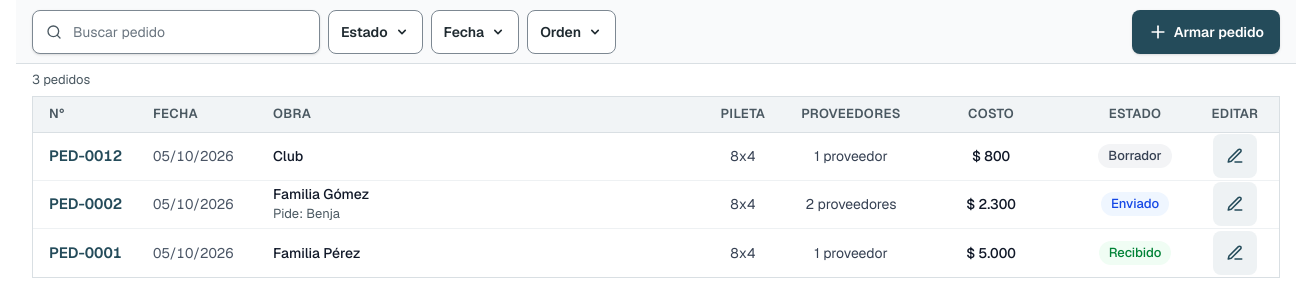
Test: Pedidos › busca por número y por obra
Check: the text "3 pedidos" is shown, box [32,70,90,90]
In the field named "Buscar pedidos": (176, 32) [32,10,320,54], type "ped-0012"
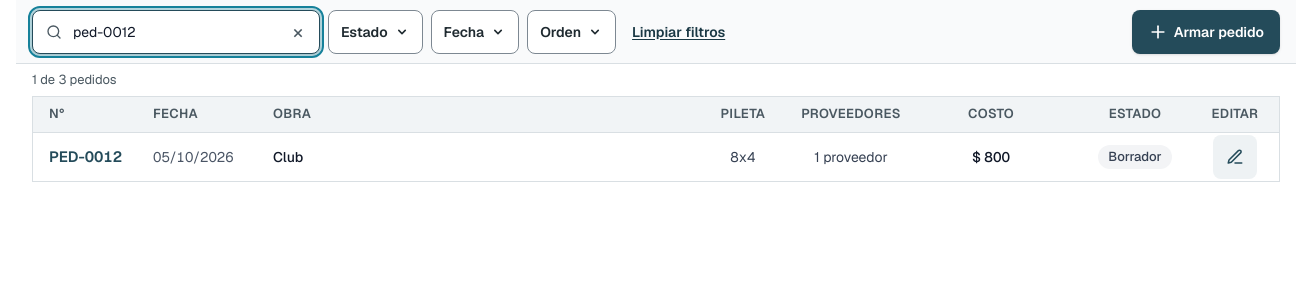
Check: the text "Club" is shown, box [273,148,303,166]
Check: the text "Familia Pérez" is gone
Replace the text in the field named "Buscar pedidos" with "gómez": (176, 32) [32,10,320,54]
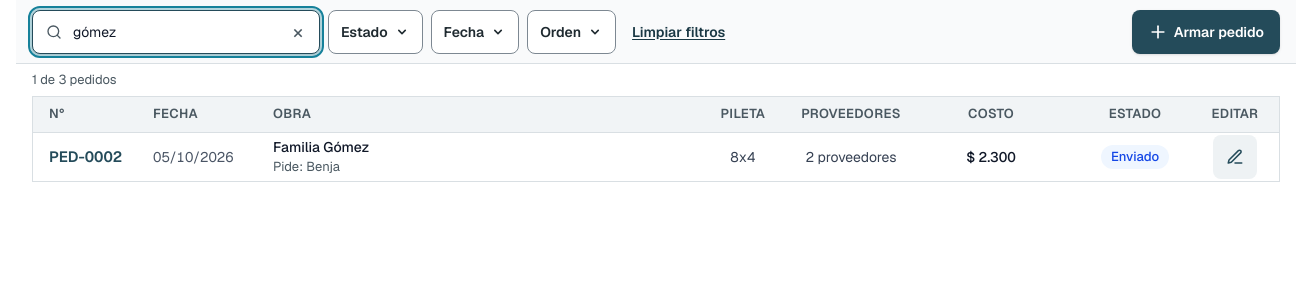
Check: the text "Familia Gómez" is shown, box [273,138,369,156]
Check: the text "Club" is gone
